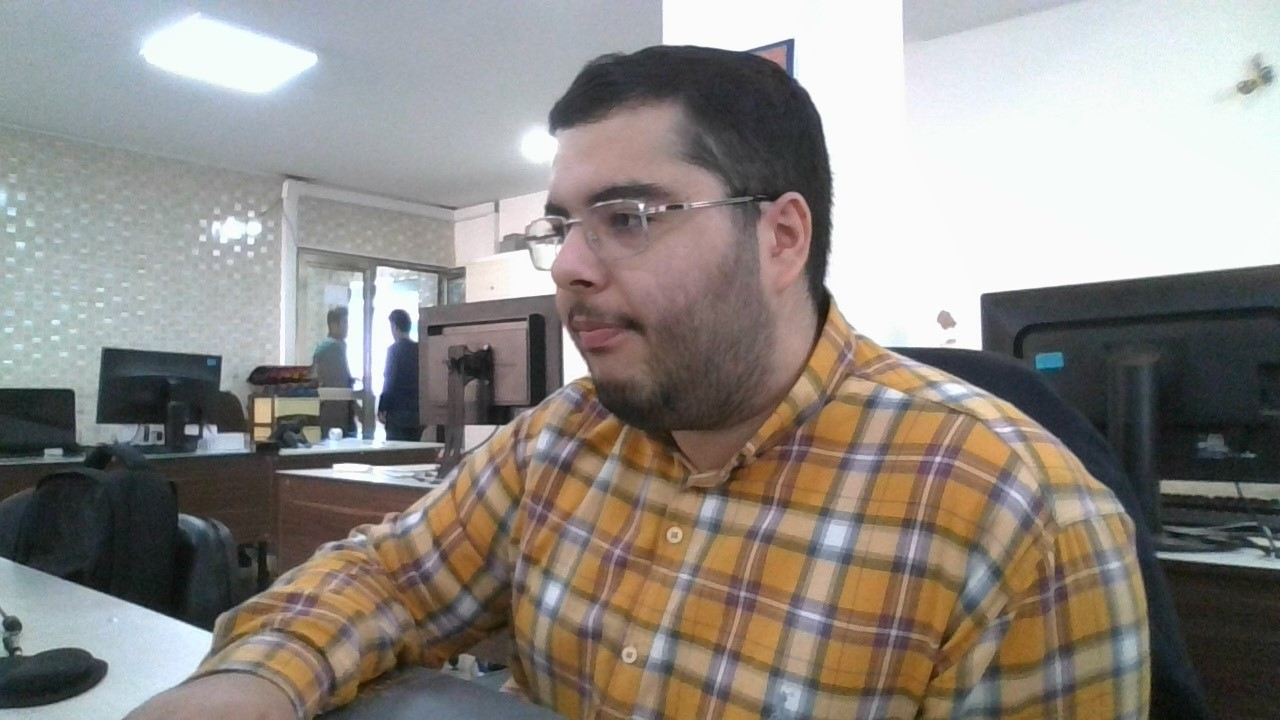NoMask: (544, 252, 784, 436)
